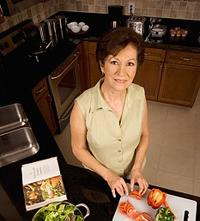person: (70, 24, 150, 201)
